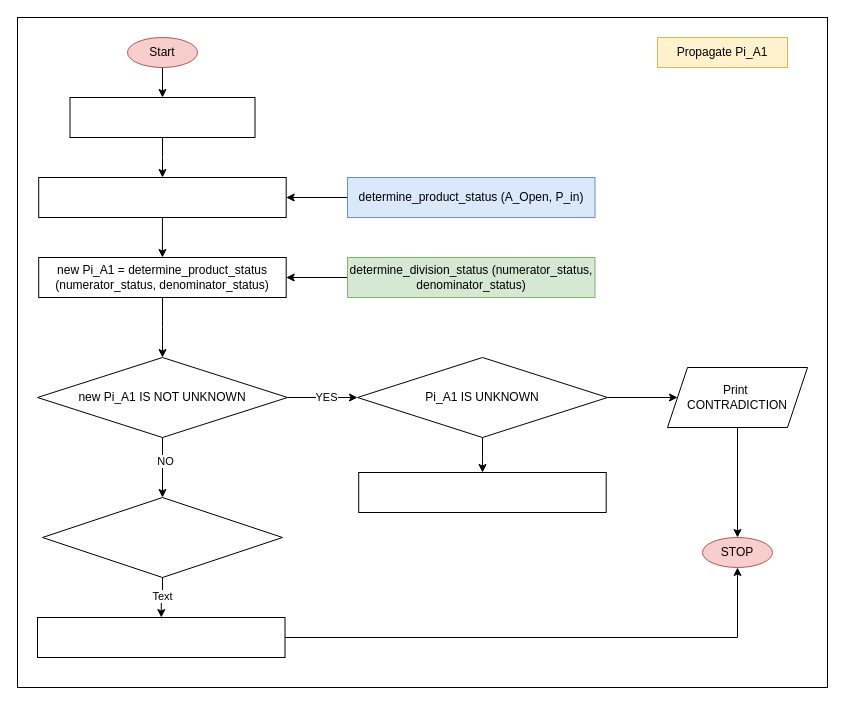
Some shapes in this 845 by 705 pixel diagram are drawn without their labels. Each missing label, with the centre of its shape:
denominator_status = determine_product_status (A_Open, P_in): the point at 162,197
if P1_A1 is CONSTANT: the point at 162,537
numerator_status = Q: the point at 162,117
Q = denominator_status: the point at 160,637
Replace Pi_A1 with the new value Pi_A1 = new Pi_A1: the point at 482,492
